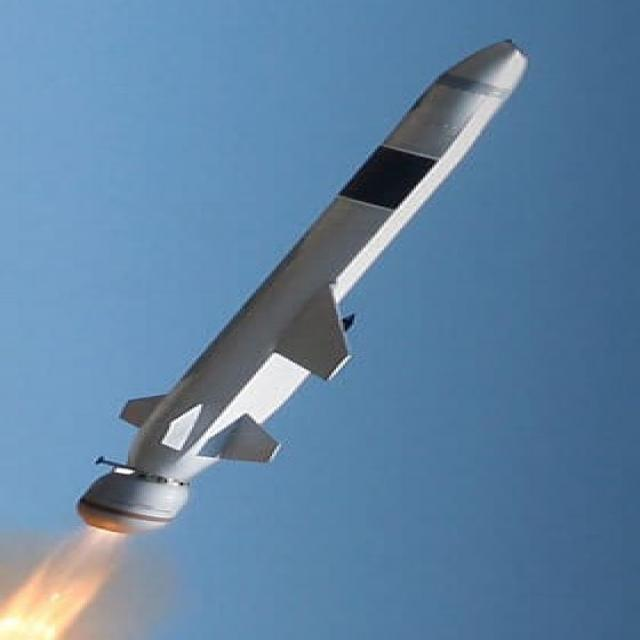missile: (76, 39, 533, 540)
